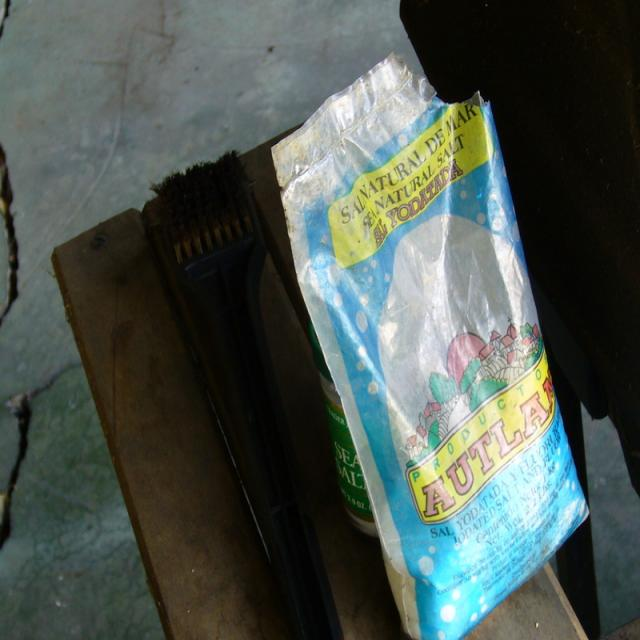packet: (273, 56, 587, 639)
